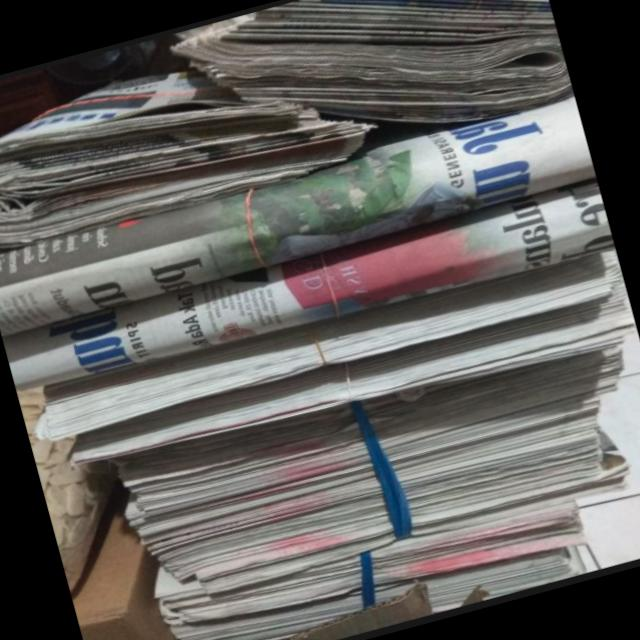Koran: (0, 0, 640, 640), (28, 234, 640, 640), (0, 92, 598, 339), (0, 0, 576, 255), (1, 175, 616, 406)
